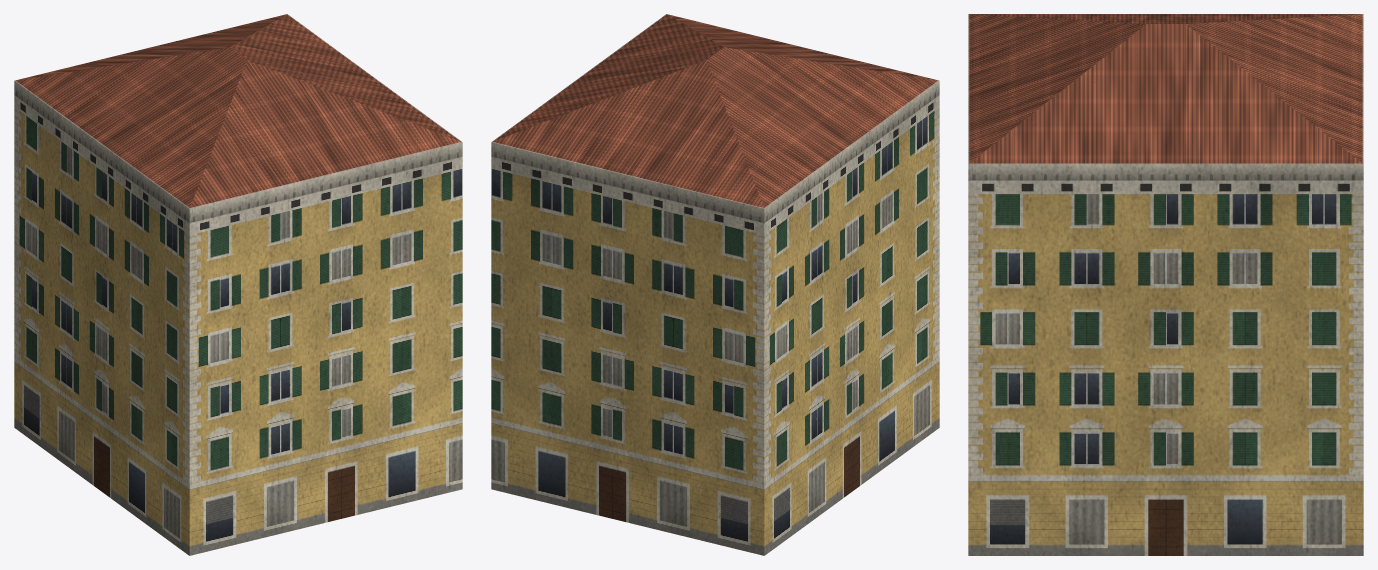
The model's file is SM_Fondale_Palazzo_A_LOD2.fbx.
3 renders of one model, left to right at view 1: azimuth 30°, elevation 25°; view 2: azimuth 150°, elevation 25°; view 3: azimuth 270°, elevation 25°, orthographic. The views are drawn at different scales.
Visible parts, largest first — view 1: SM_Fondale_Palazzo_A_LOD2; view 2: SM_Fondale_Palazzo_A_LOD2; view 3: SM_Fondale_Palazzo_A_LOD2.
Boxes of the visible parts, box(x1,y1,x2,y2) form: SM_Fondale_Palazzo_A_LOD2: box(14, 14, 462, 555); SM_Fondale_Palazzo_A_LOD2: box(491, 14, 939, 555); SM_Fondale_Palazzo_A_LOD2: box(968, 14, 1363, 555).
Bounding box in the file's own units: 1800 × 2000 × 2549.
1 material, 1 textured.
